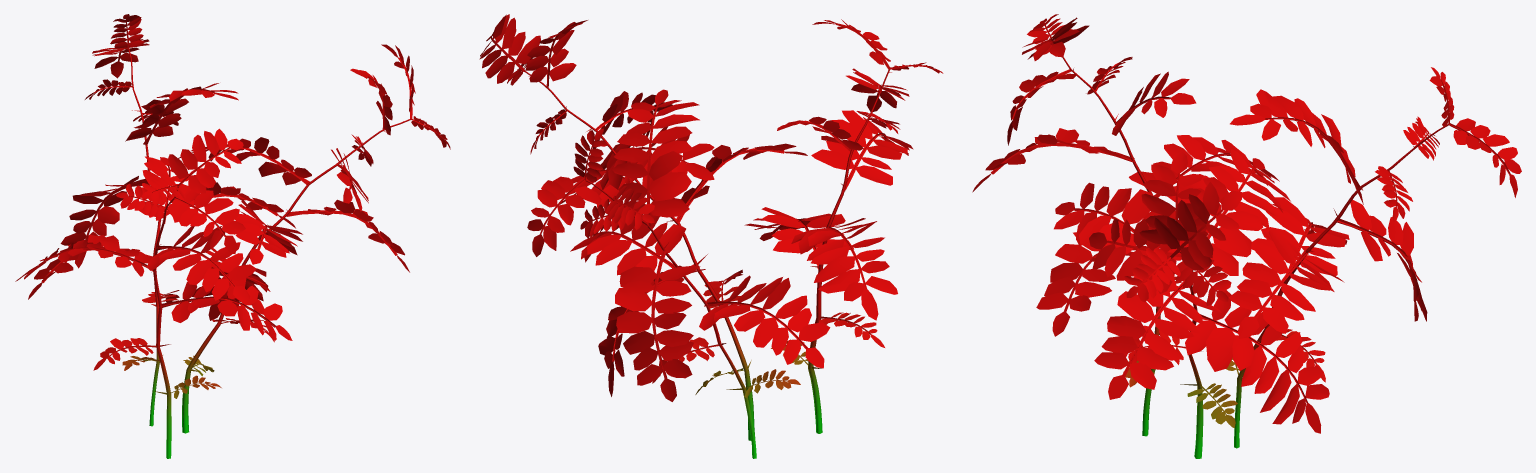
File: Black Locust_LOD1_Var4.fbx
The picture shows the model from 3 angles, left to right: view 1: azimuth 30°, elevation 25°; view 2: azimuth 150°, elevation 25°; view 3: azimuth 270°, elevation 25°; orthographic projection. The views are drawn at different scales.
Parts seen in each view (by area): view 1: _erxj_Var4_LOD1; view 2: _erxj_Var4_LOD1; view 3: _erxj_Var4_LOD1.
Boxes of the visible parts, left/top/right/bottom form: _erxj_Var4_LOD1: left=15, top=14, right=450, bottom=458; _erxj_Var4_LOD1: left=479, top=14, right=943, bottom=458; _erxj_Var4_LOD1: left=972, top=14, right=1521, bottom=458.
Bounding box in the file's own units: 48.68 × 41.96 × 49.68.
